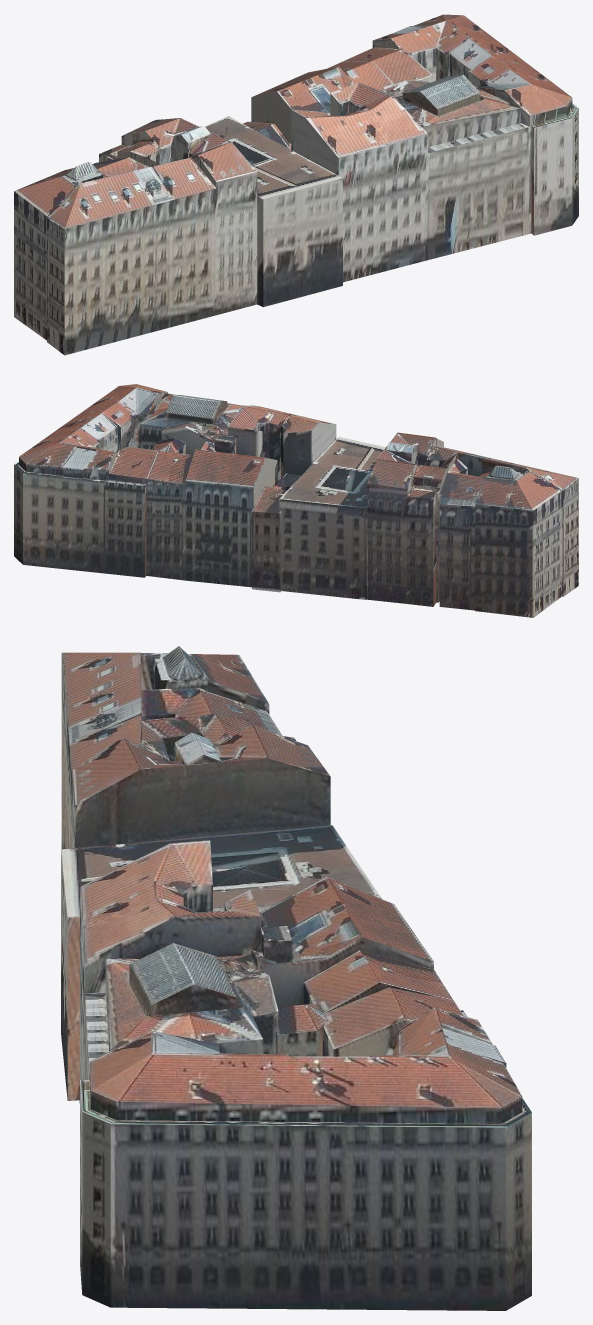
File: LYON_1ER_00131.dae
3 views of the same model, one above another, from view 1: azimuth 30°, elevation 25°; view 2: azimuth 150°, elevation 25°; view 3: azimuth 270°, elevation 25° (orthographic). The views are drawn at different scales.
Bounding box in the file's own units: 107 × 47.98 × 29.68.
Materials: 2 (2 with a texture image).
